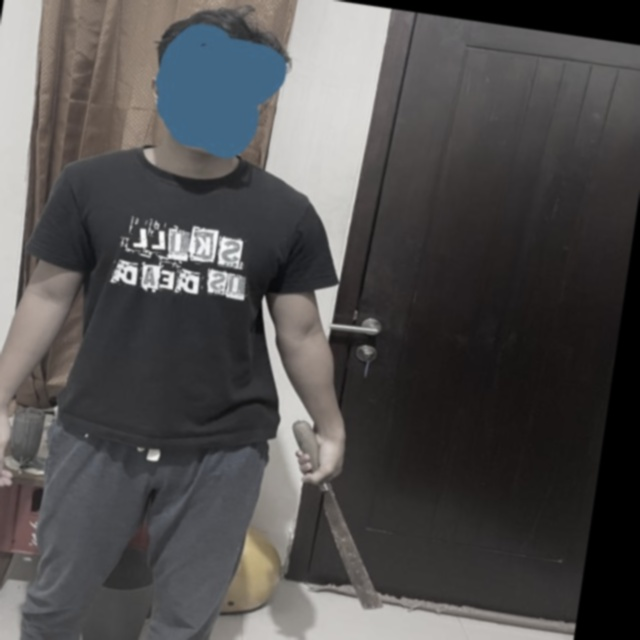Sharp-Object: (265, 415, 410, 614)
